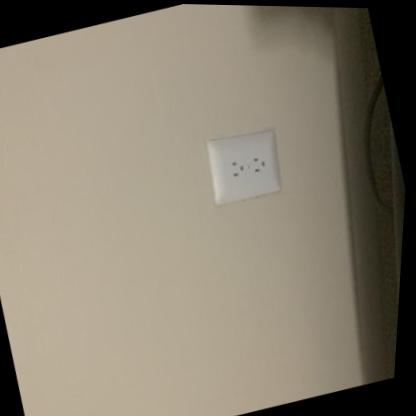OUTLET: (198, 125, 288, 209)
